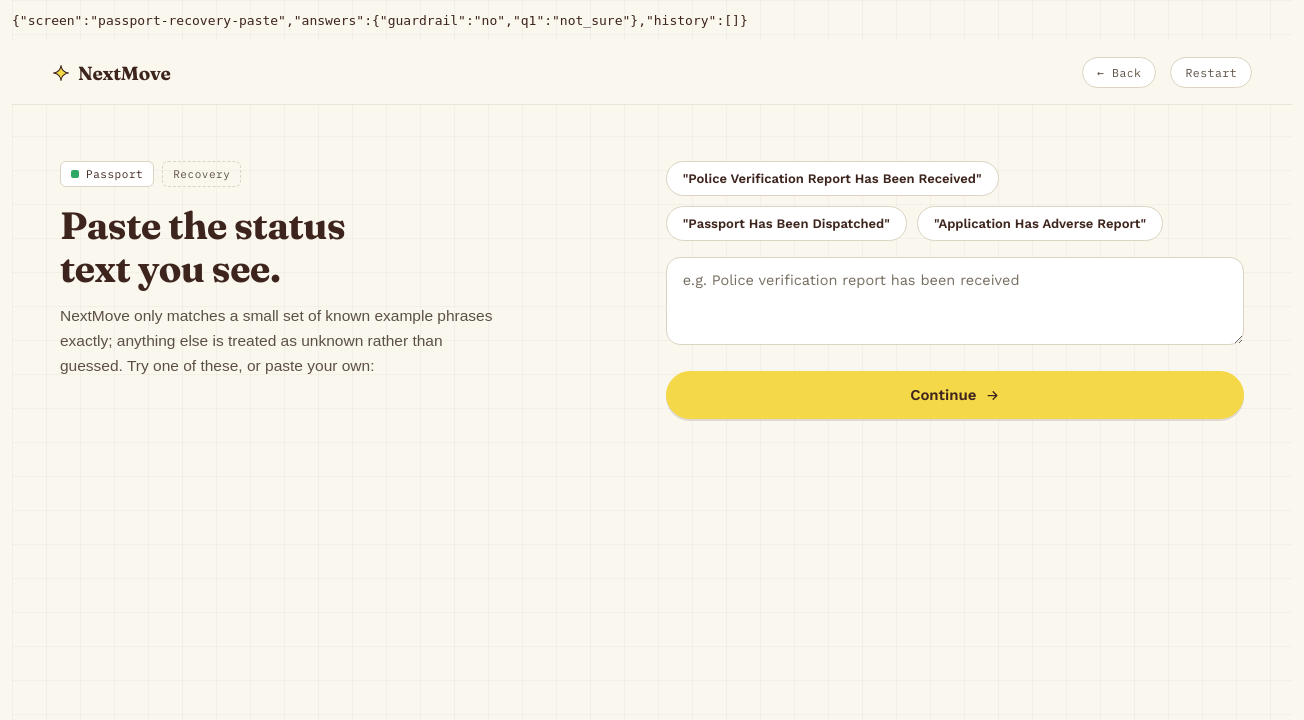
Test: passport flow › an out-of-scope paste sets guardrail: yes and routes to the guardrail exit
In the text box with placeholder "e.g. Police verification report has been received": (955, 301) [666,257,1244,345], type "passport has been dispatched"
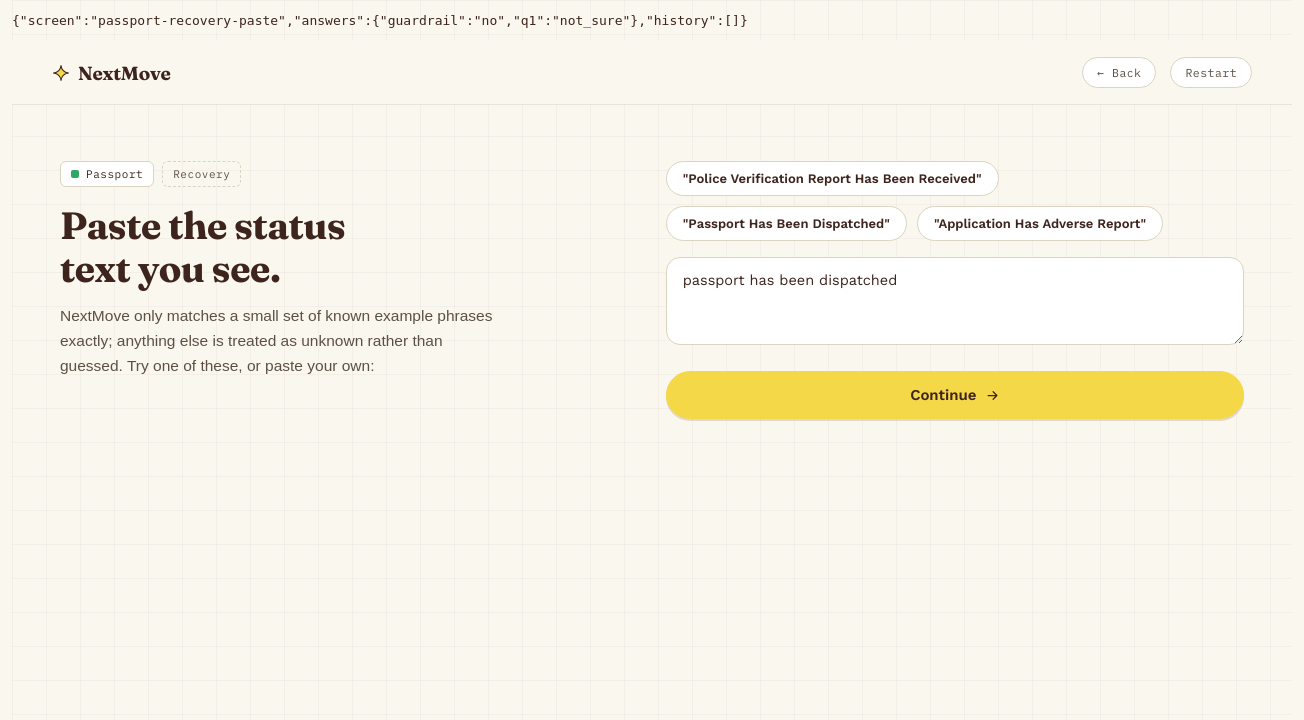
Click the button "Continue": (955, 395) [666,371,1244,419]
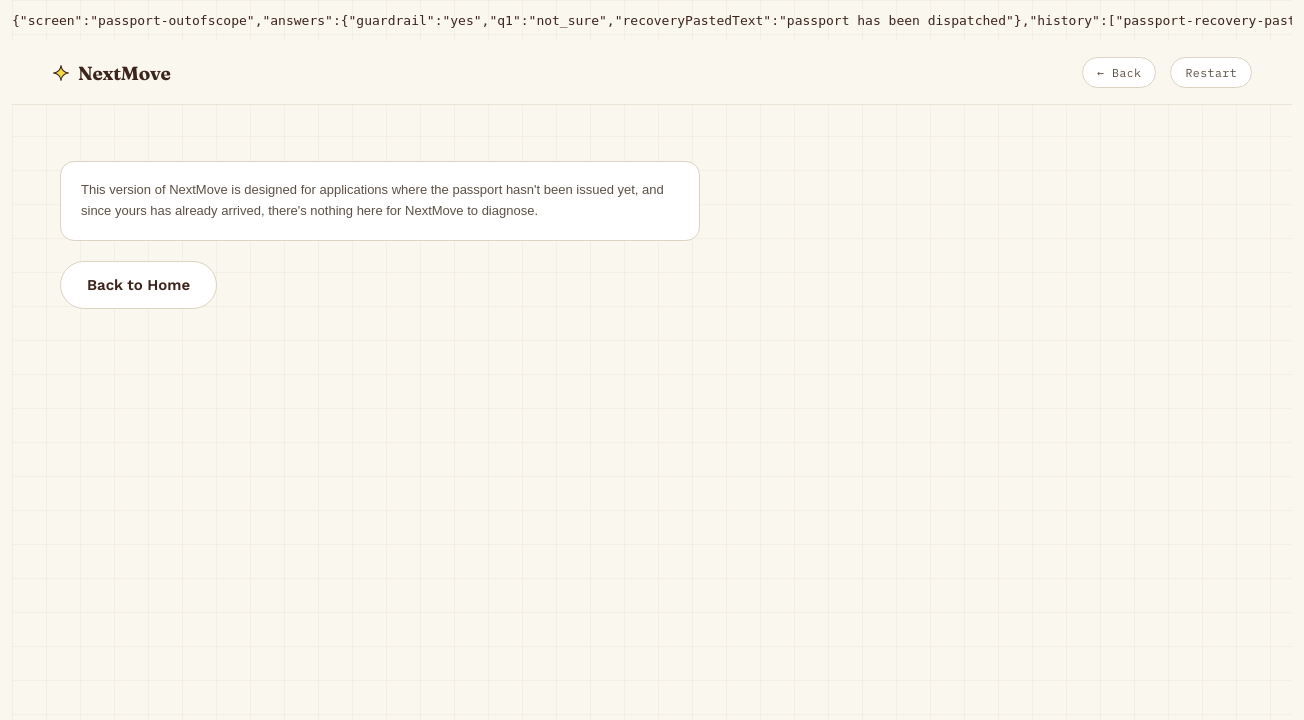
Expected: the text "there's nothing here for NextMove to diagnose" is shown, [81,182,664,218]
